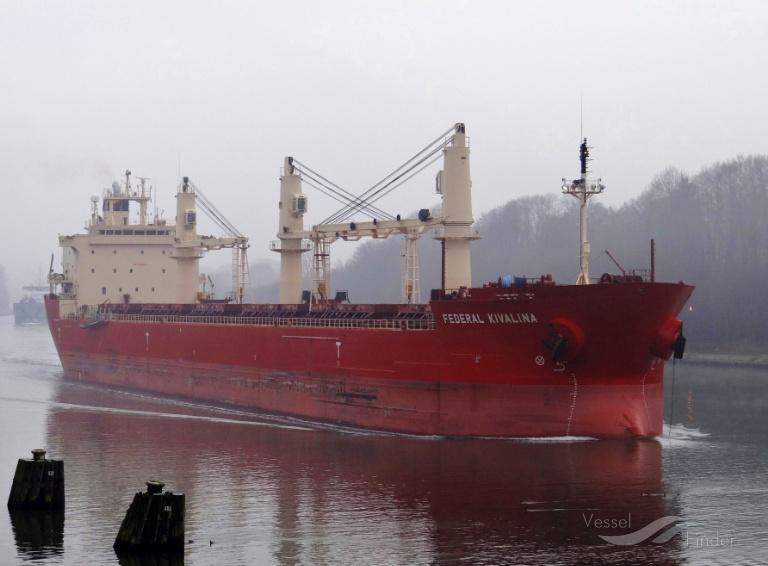OCR: (436, 306, 545, 328)
